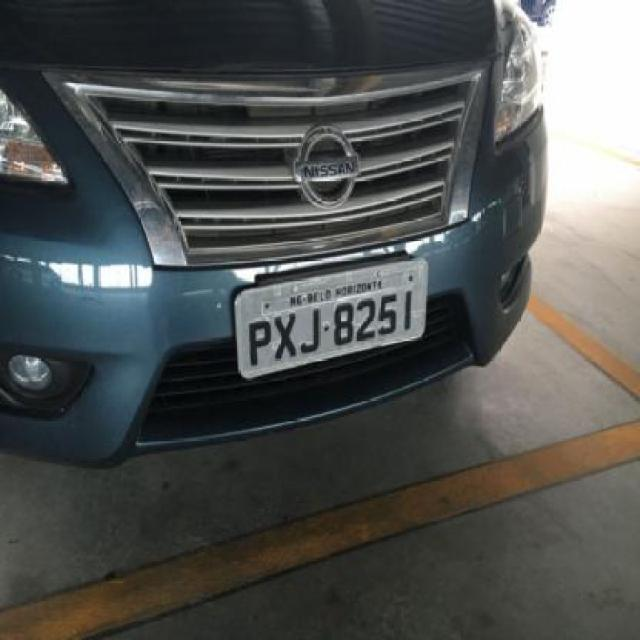old_plate: (227, 250, 436, 386)
